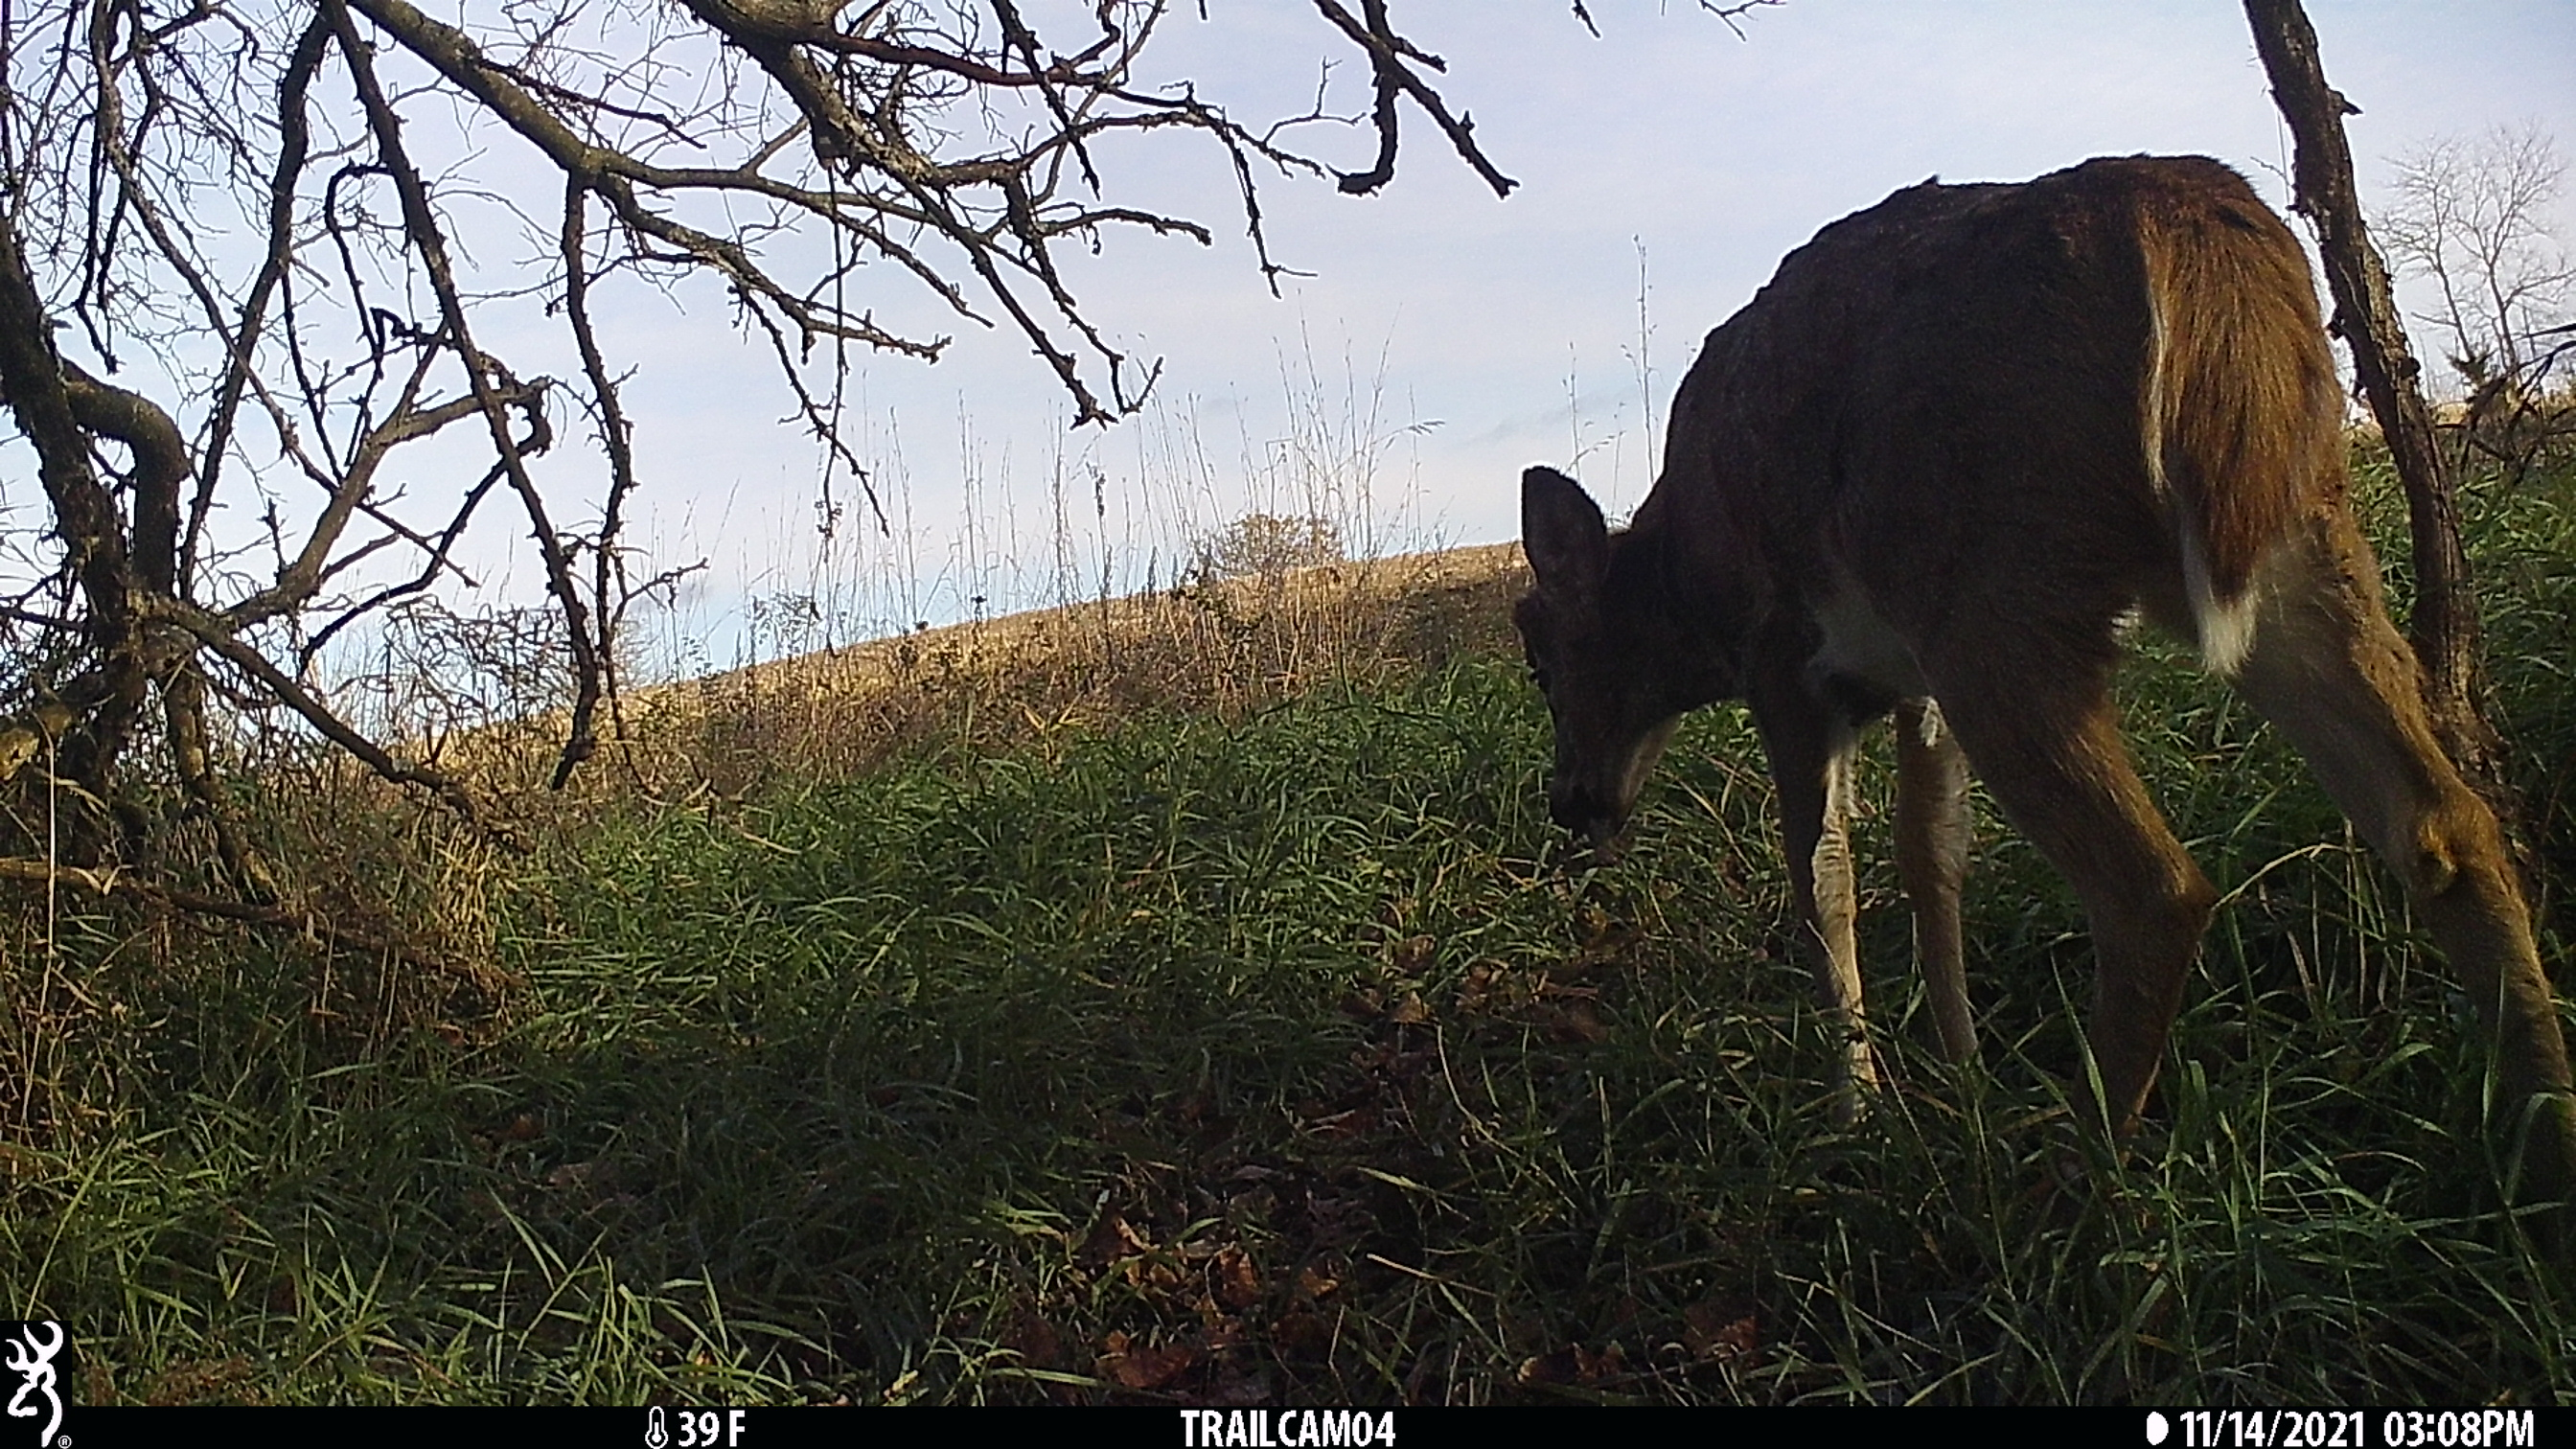Deer: (1506, 149, 2576, 1129)
